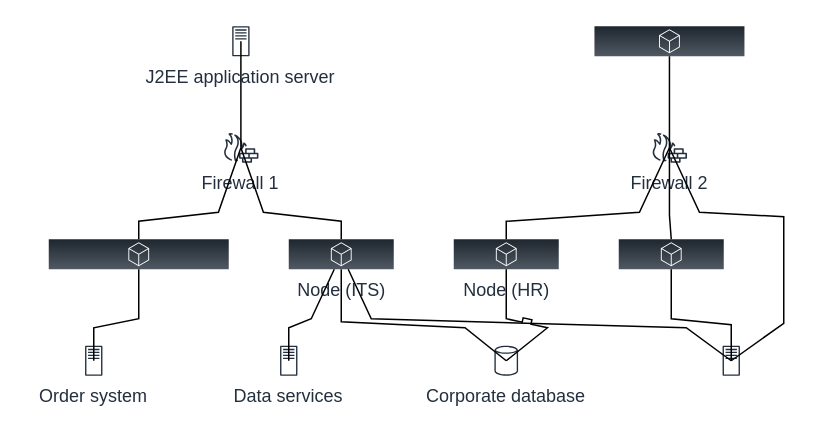
Image size: 833x434. Some labels were removed from this diagram. The centre of each missing label's shape, as x and y in pixels:
Extranet server: [730,360]
Node (extranet): [668,40]
Node (PR): [670,253]
Node (Warehouse): [138,253]
